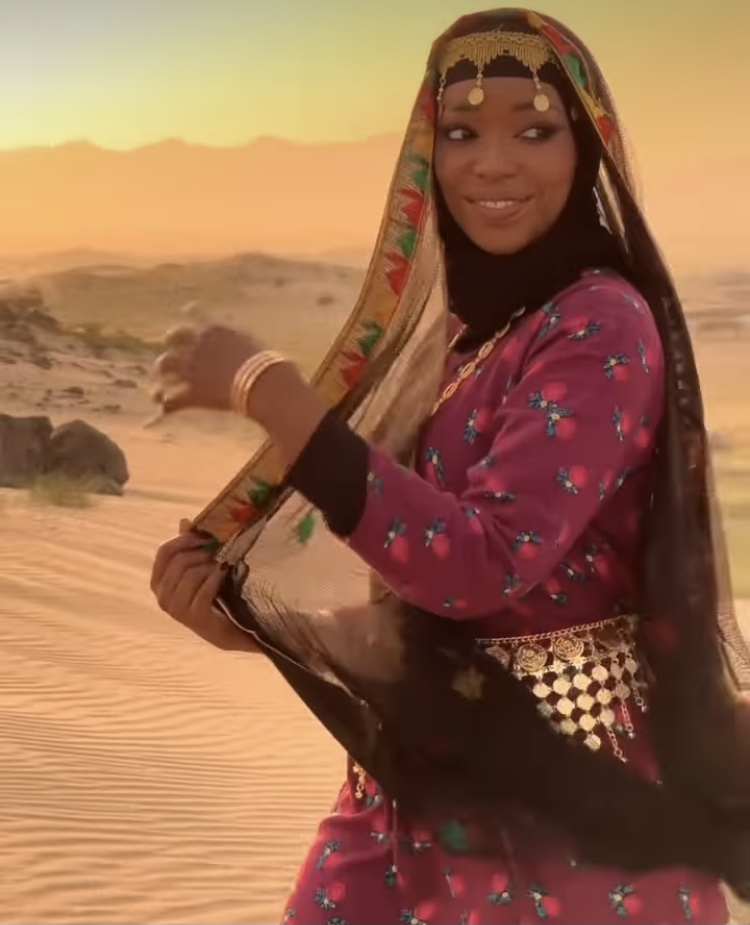Saudi_Founding_Day: (143, 6, 750, 925)
